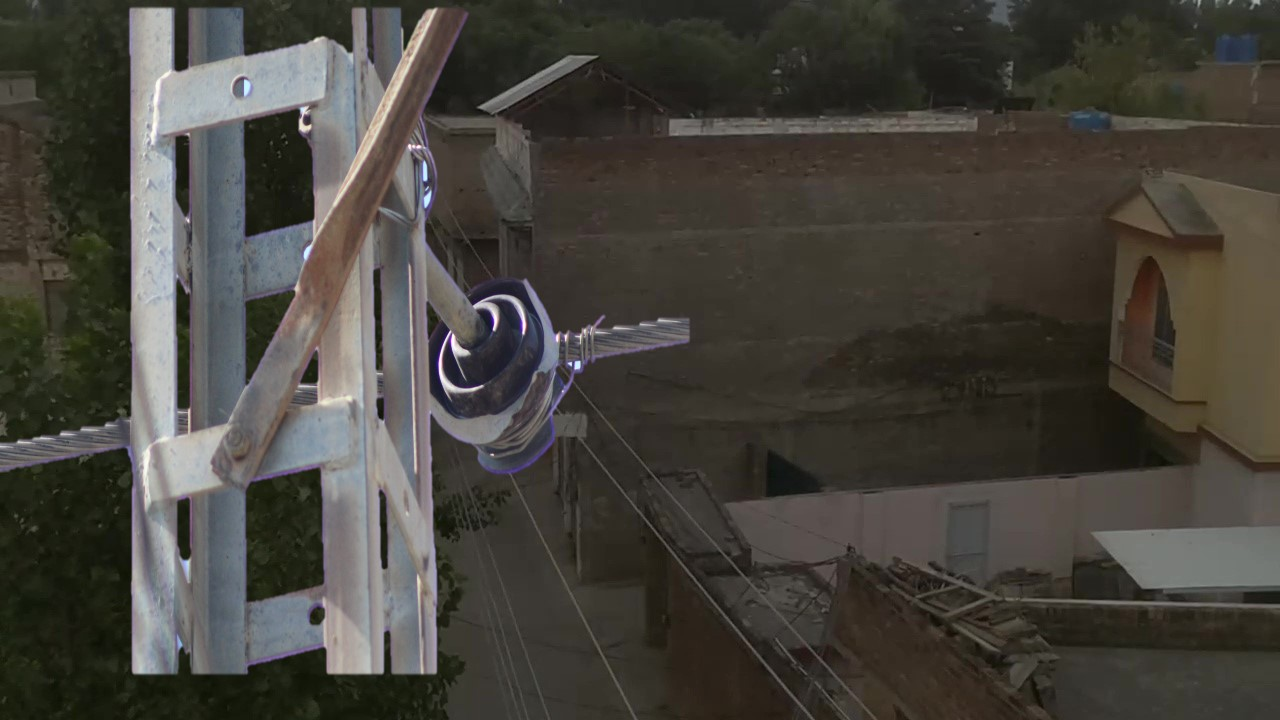defect_pin: (427, 264, 587, 493)
